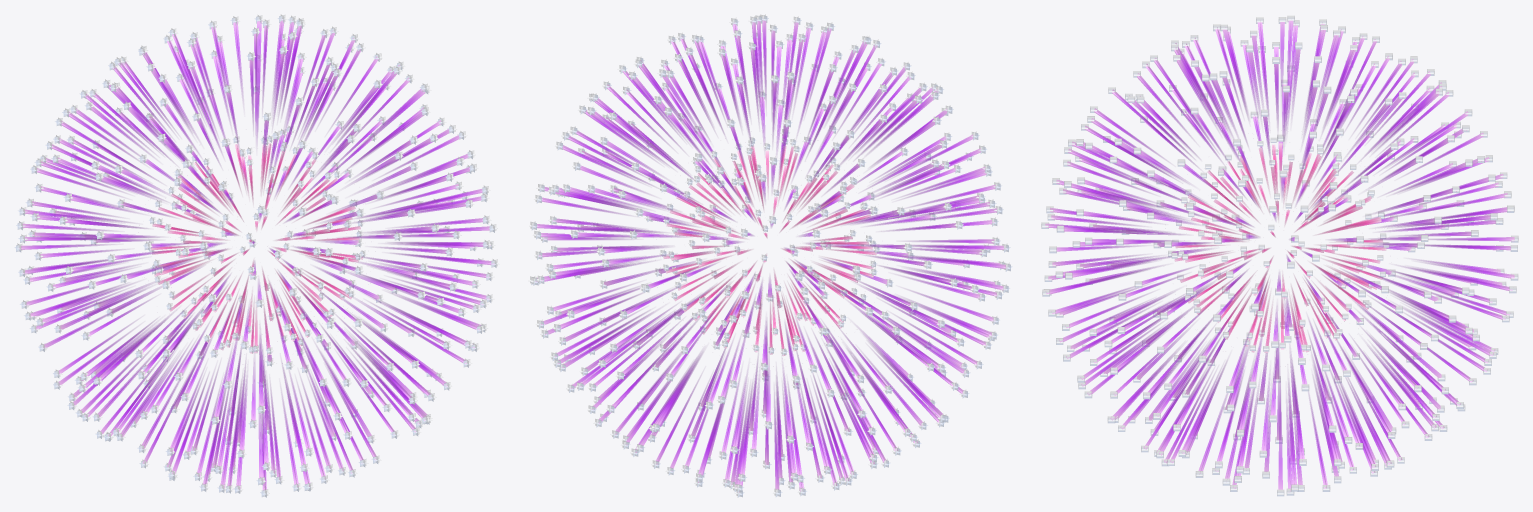
The model's file is fw_peony_purple_pink_a.glb.
3 renders of one model, left to right at view 1: azimuth 30°, elevation 25°; view 2: azimuth 150°, elevation 25°; view 3: azimuth 270°, elevation 25°, orthographic.
Parts seen in each view (by area): view 1: spire; view 2: spire; view 3: spire.
Boxes of the visible parts, <box> form: spire: <box>14,14,498,497</box>; spire: <box>528,14,1012,497</box>; spire: <box>1041,15,1518,496</box>.
Bounding box in the file's own units: 20.27 × 20.25 × 20.11.
Materials: 3 (3 with a texture image).
